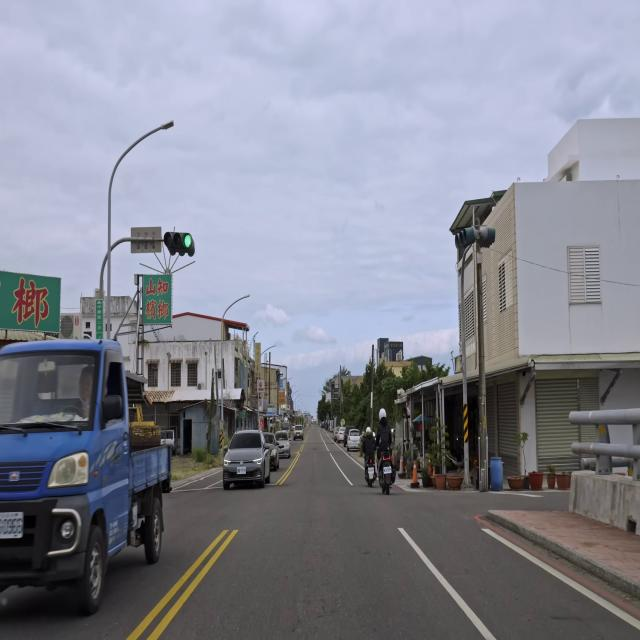green light: (163, 230, 196, 257)
